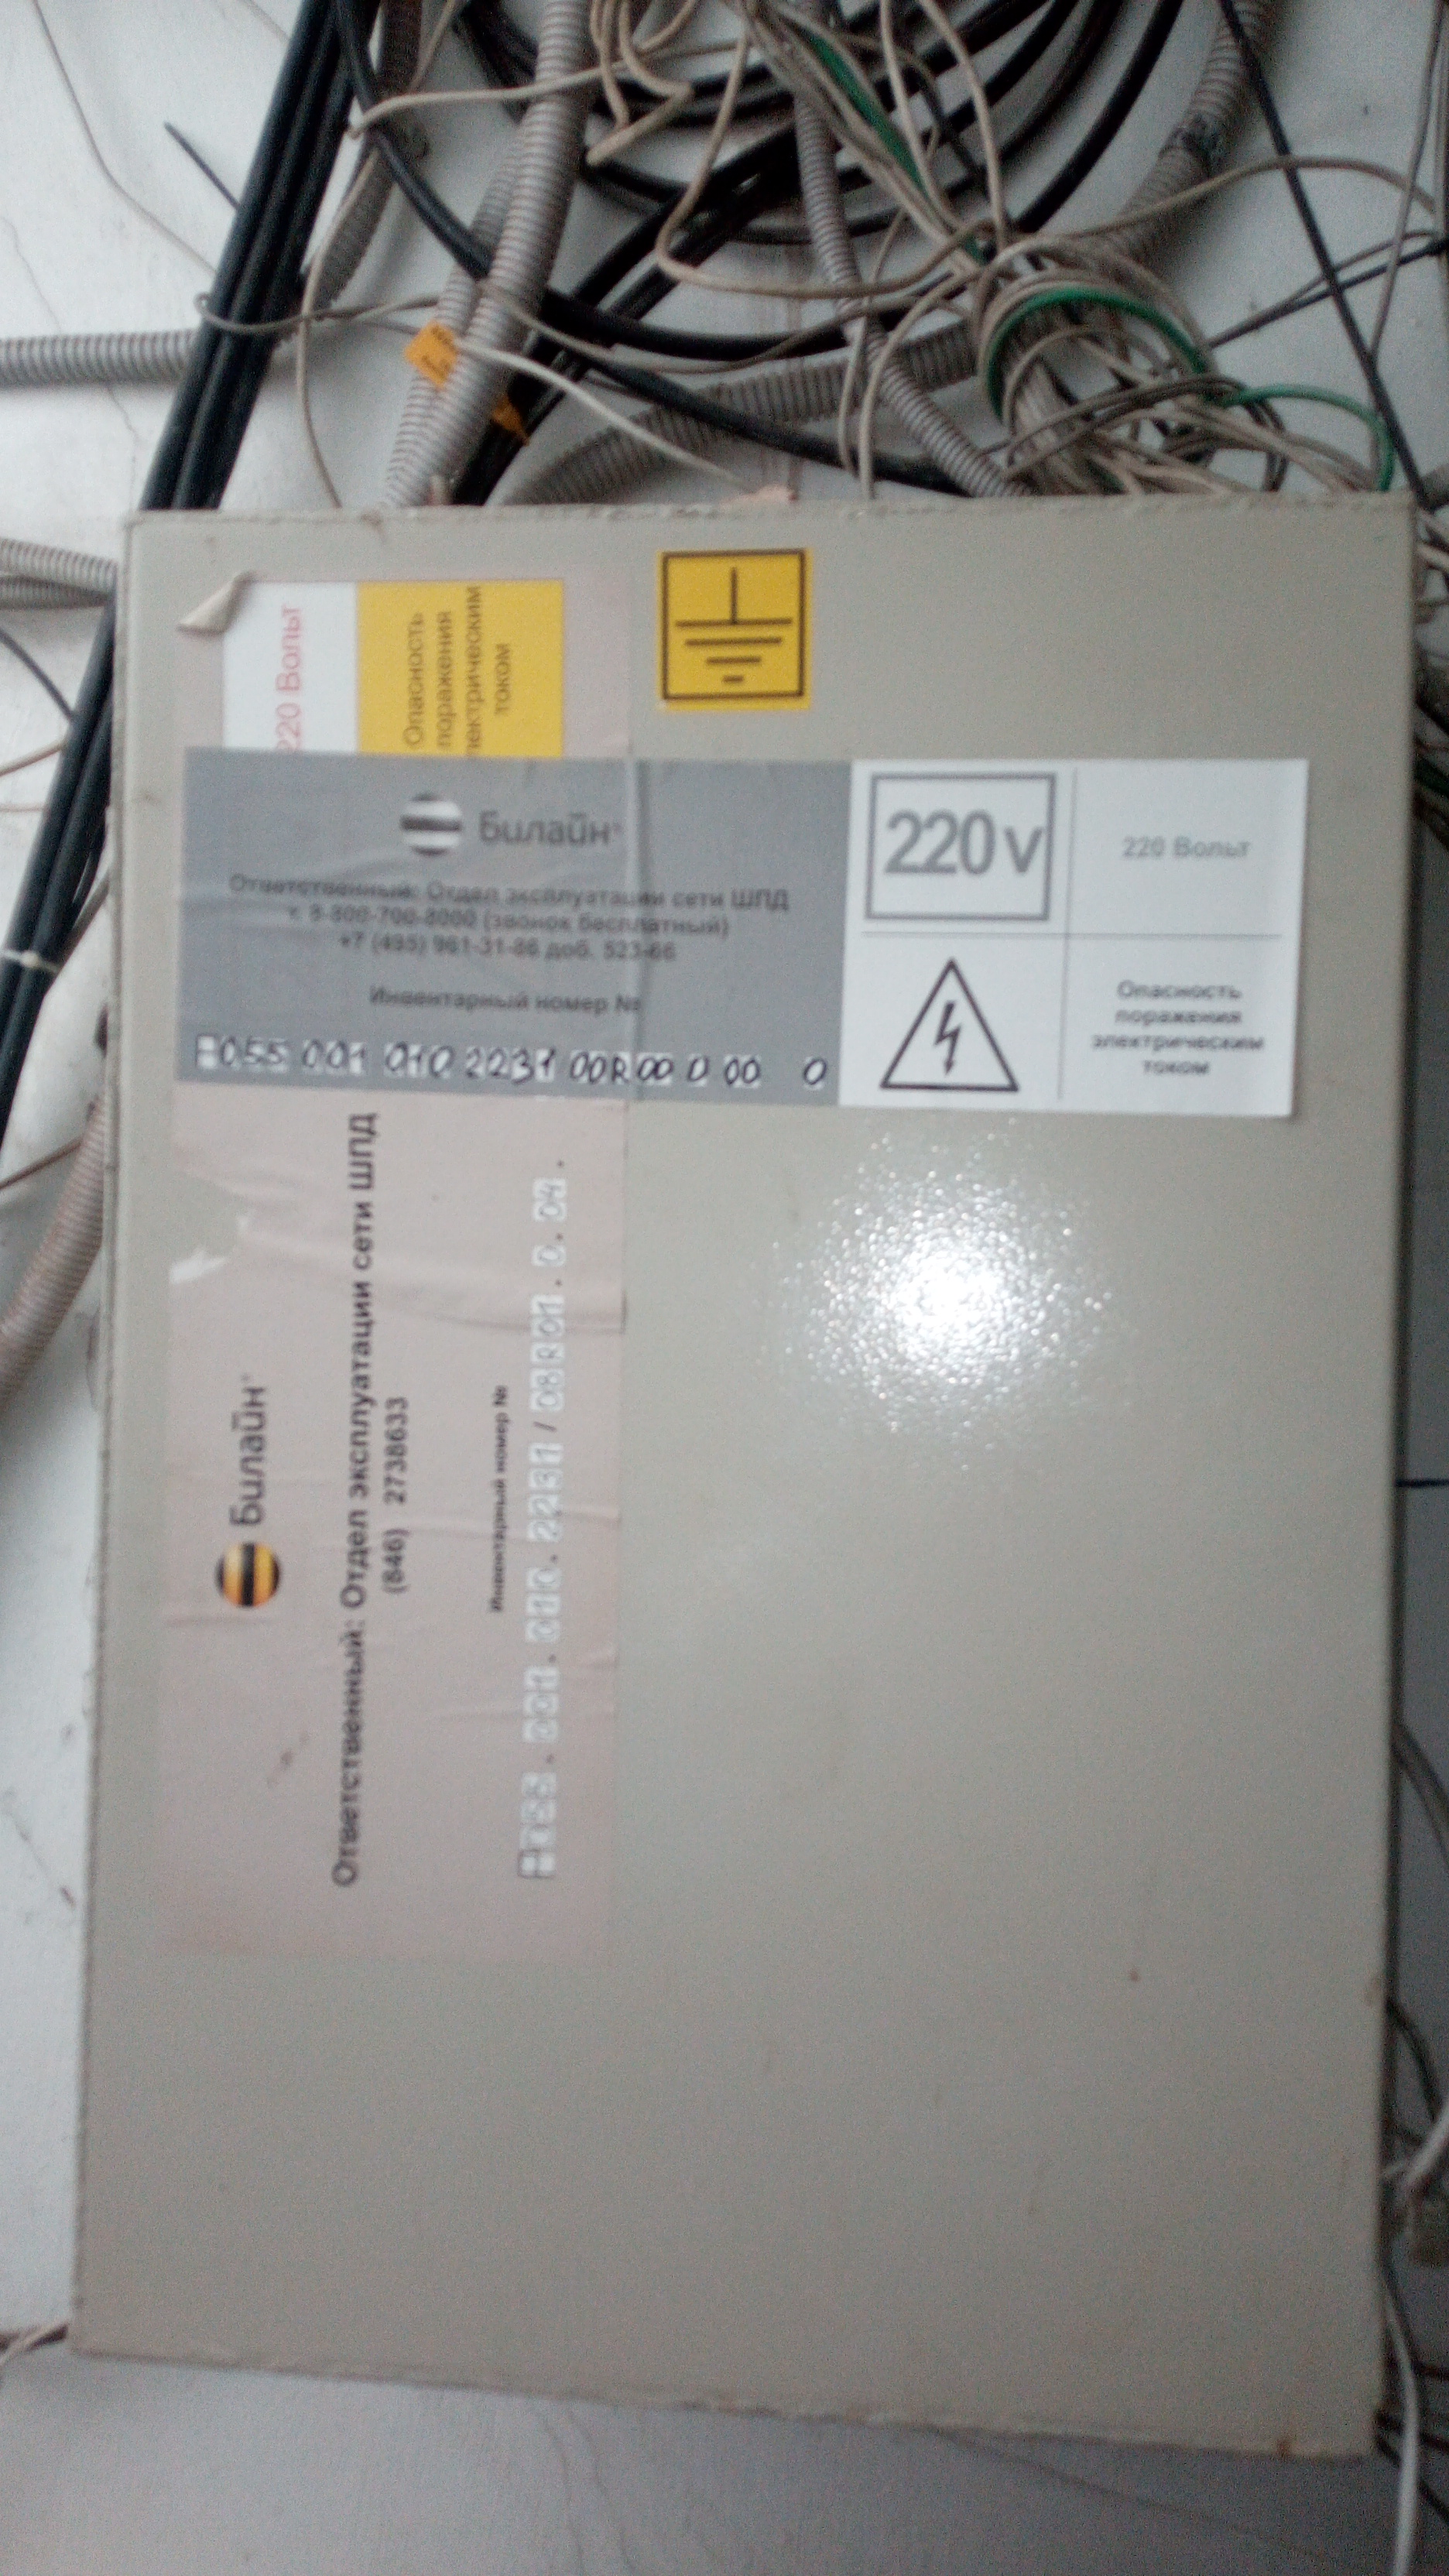sv-5: (50, 481, 1428, 2473)
